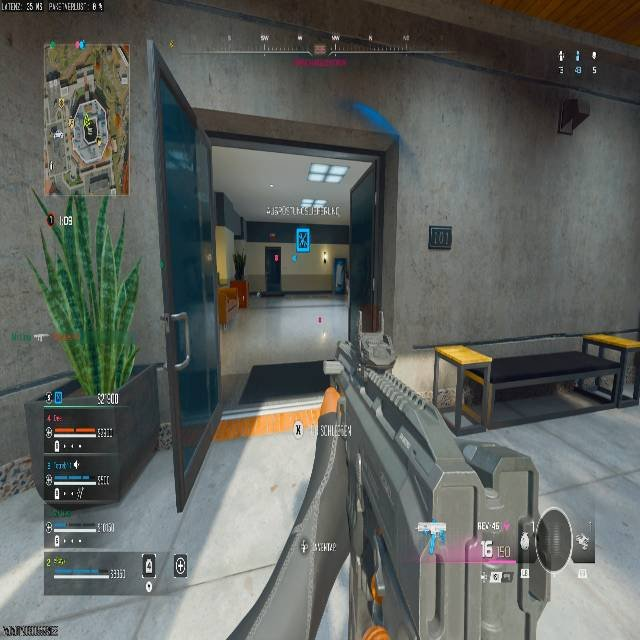player: (294, 421, 301, 435)
